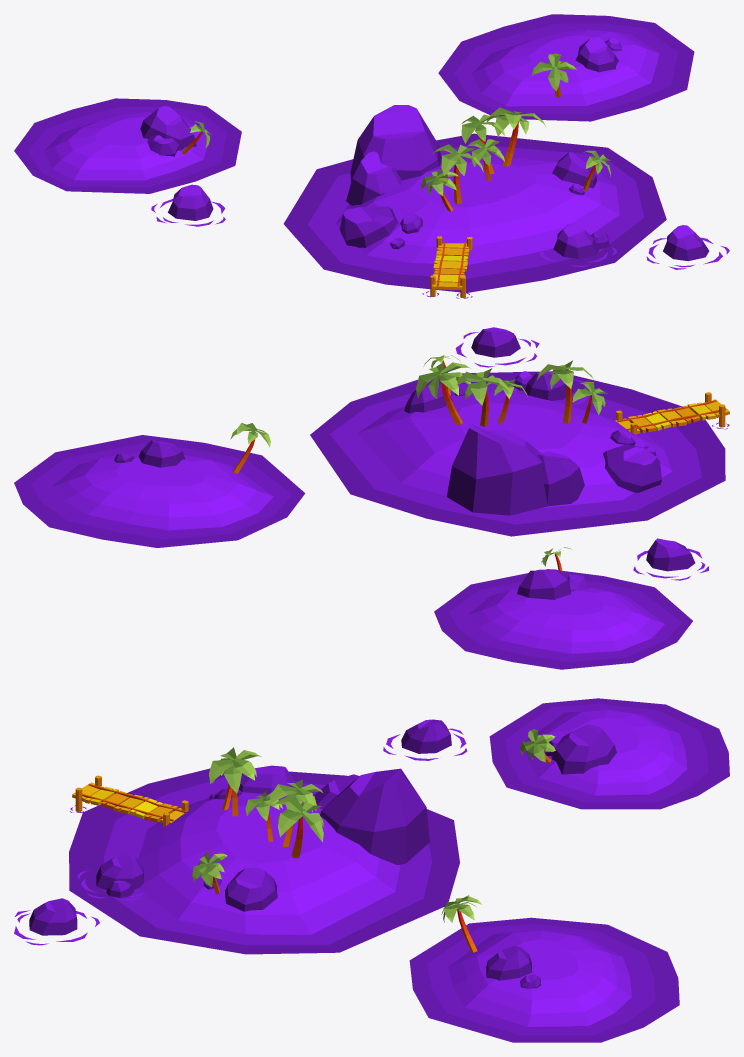
Rendered from background-island-night.glb.
The picture shows the model from 3 angles, top to bottom: view 1: azimuth 30°, elevation 25°; view 2: azimuth 150°, elevation 25°; view 3: azimuth 270°, elevation 25°; orthographic projection. The views are drawn at different scales.
Parts seen in each view (by area): view 1: Island, Island.001, Island.002, Rock.001, Rock.008, Dock, Rock.002, Rock.016, Rock.018, Rock.007, Rock.013, Rock.014 (+8 smaller); view 2: Island, Island.001, Island.002, Rock.001, Rock.008, Dock, Rock.002, Rock.016, Palm Tree.004, Rock.018, Rock.013, Palm Tree.003 (+6 smaller); view 3: Island, Island.001, Island.002, Rock.001, Dock, Rock.016, Rock.011, Rock.013, Palm Tree.004, Palm Tree, Rock.018, Rock.014 (+8 smaller).
Part boxes in pixels (bbox=[...]): Island: bbox=[283, 133, 666, 292]; Island.001: bbox=[438, 14, 694, 121]; Island.002: bbox=[14, 98, 241, 193]; Rock.001: bbox=[350, 105, 441, 181]; Rock.008: bbox=[339, 206, 398, 247]; Dock: bbox=[430, 236, 472, 297]; Rock.002: bbox=[346, 151, 401, 205]; Rock.016: bbox=[140, 106, 196, 150]; Rock.018: bbox=[168, 184, 213, 220]; Rock.007: bbox=[553, 223, 599, 258]; Rock.013: bbox=[663, 225, 709, 261]; Rock.014: bbox=[575, 37, 618, 72]; Island: bbox=[310, 371, 725, 536]; Island.001: bbox=[14, 435, 305, 547]; Island.002: bbox=[434, 569, 692, 669]; Rock.001: bbox=[447, 424, 548, 515]; Rock.008: bbox=[603, 444, 661, 492]; Dock: bbox=[615, 392, 729, 434]; Rock.002: bbox=[536, 451, 584, 506]; Rock.016: bbox=[517, 569, 570, 599]; Palm Tree.004: bbox=[416, 362, 470, 424]; Rock.018: bbox=[646, 538, 695, 571]; Rock.013: bbox=[471, 327, 520, 357]; Palm Tree.003: bbox=[457, 368, 510, 426]; Island: bbox=[69, 768, 459, 954]; Island.001: bbox=[409, 917, 679, 1042]; Island.002: bbox=[489, 698, 729, 809]; Rock.001: bbox=[320, 768, 429, 864]; Dock: bbox=[72, 775, 188, 826]; Rock.016: bbox=[552, 724, 616, 774]; Rock.011: bbox=[225, 867, 277, 911]; Rock.013: bbox=[29, 898, 77, 935]; Palm Tree.004: bbox=[274, 795, 323, 858]; Palm Tree: bbox=[209, 747, 261, 816]; Rock.018: bbox=[401, 719, 451, 753]; Rock.014: bbox=[486, 945, 532, 980].
Size of what is drawn, in the model's own units: 41.7 by 5.61 by 36.72.
1 material, 1 textured.
